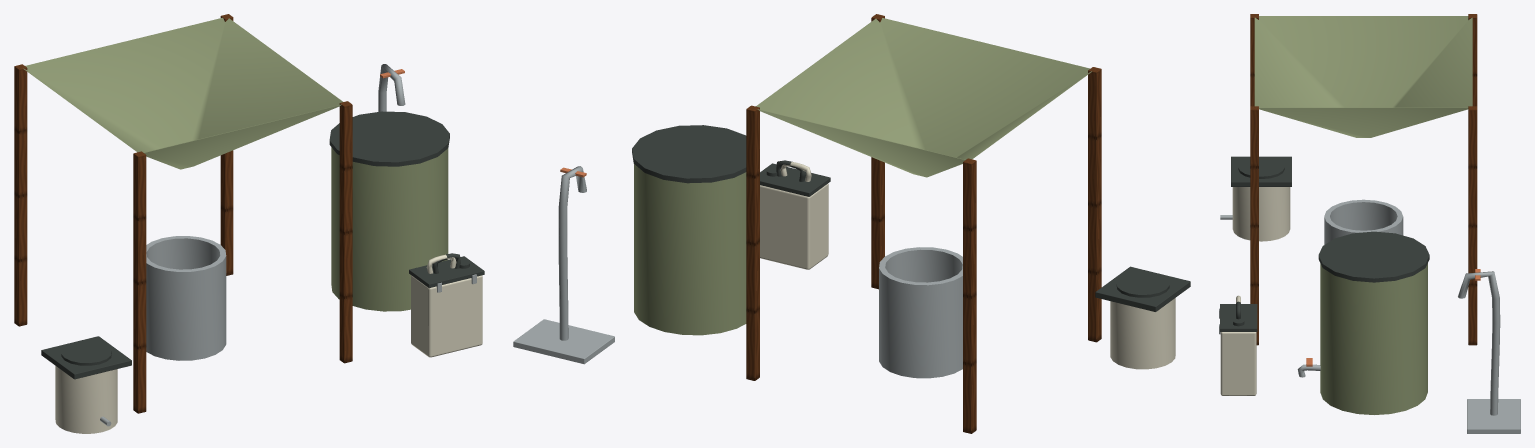
File: water-collection-and-purification-rainwa-f0052beb-starter-scene__20210.glb
3 renders of one model, left to right at view 1: azimuth 30°, elevation 25°; view 2: azimuth 150°, elevation 25°; view 3: azimuth 270°, elevation 25°, orthographic. The views are drawn at different scales.
Parts seen in each view (by area): view 1: 000-tarp-rain-catcher/1, 001-rain-barrel/0, 000-tarp-rain-catcher/0, 000-tarp-rain-catcher/2, 002-water-canister/0, 001-rain-barrel/1, 003-bucket-filter/0, 003-bucket-filter/1, 002-water-canister/lid/dark, 004-tap-stand/0; view 2: 000-tarp-rain-catcher/1, 001-rain-barrel/0, 000-tarp-rain-catcher/0, 000-tarp-rain-catcher/2, 001-rain-barrel/1, 002-water-canister/0, 004-tap-stand/0, 003-bucket-filter/0, 003-bucket-filter/1, 002-water-canister/lid/dark; view 3: 000-tarp-rain-catcher/1, 001-rain-barrel/0, 000-tarp-rain-catcher/0, 001-rain-barrel/1, 004-tap-stand/0, 003-bucket-filter/0, 000-tarp-rain-catcher/2, 002-water-canister/0, 003-bucket-filter/1, 002-water-canister/lid/dark.
Part boxes in pixels (x1,y1,x2,y2): 000-tarp-rain-catcher/1: [23, 17, 342, 169]; 001-rain-barrel/0: [331, 147, 448, 311]; 000-tarp-rain-catcher/0: [14, 14, 352, 413]; 000-tarp-rain-catcher/2: [146, 236, 226, 360]; 002-water-canister/0: [411, 254, 482, 357]; 001-rain-barrel/1: [329, 111, 449, 166]; 003-bucket-filter/0: [55, 366, 117, 433]; 003-bucket-filter/1: [41, 336, 131, 379]; 002-water-canister/lid/dark: [409, 256, 484, 288]; 004-tap-stand/0: [378, 64, 405, 111]; 000-tarp-rain-catcher/1: [756, 18, 1091, 177]; 001-rain-barrel/0: [634, 164, 746, 335]; 000-tarp-rain-catcher/0: [746, 14, 1101, 433]; 000-tarp-rain-catcher/2: [879, 247, 962, 378]; 001-rain-barrel/1: [632, 125, 746, 183]; 002-water-canister/0: [760, 162, 828, 269]; 004-tap-stand/0: [513, 166, 614, 364]; 003-bucket-filter/0: [1110, 298, 1175, 369]; 003-bucket-filter/1: [1095, 266, 1190, 311]; 002-water-canister/lid/dark: [760, 163, 830, 196]; 000-tarp-rain-catcher/1: [1254, 16, 1472, 137]; 001-rain-barrel/0: [1320, 263, 1427, 414]; 000-tarp-rain-catcher/0: [1250, 14, 1477, 345]; 001-rain-barrel/1: [1318, 231, 1429, 282]; 004-tap-stand/0: [1458, 271, 1520, 433]; 003-bucket-filter/0: [1232, 187, 1290, 241]; 000-tarp-rain-catcher/2: [1324, 199, 1403, 244]; 002-water-canister/0: [1220, 295, 1256, 395]; 003-bucket-filter/1: [1231, 156, 1291, 186]; 002-water-canister/lid/dark: [1220, 304, 1257, 331].
Bounding box in the file's own units: 2.87 × 1.45 × 1.68.
6 materials, 1 textured.
